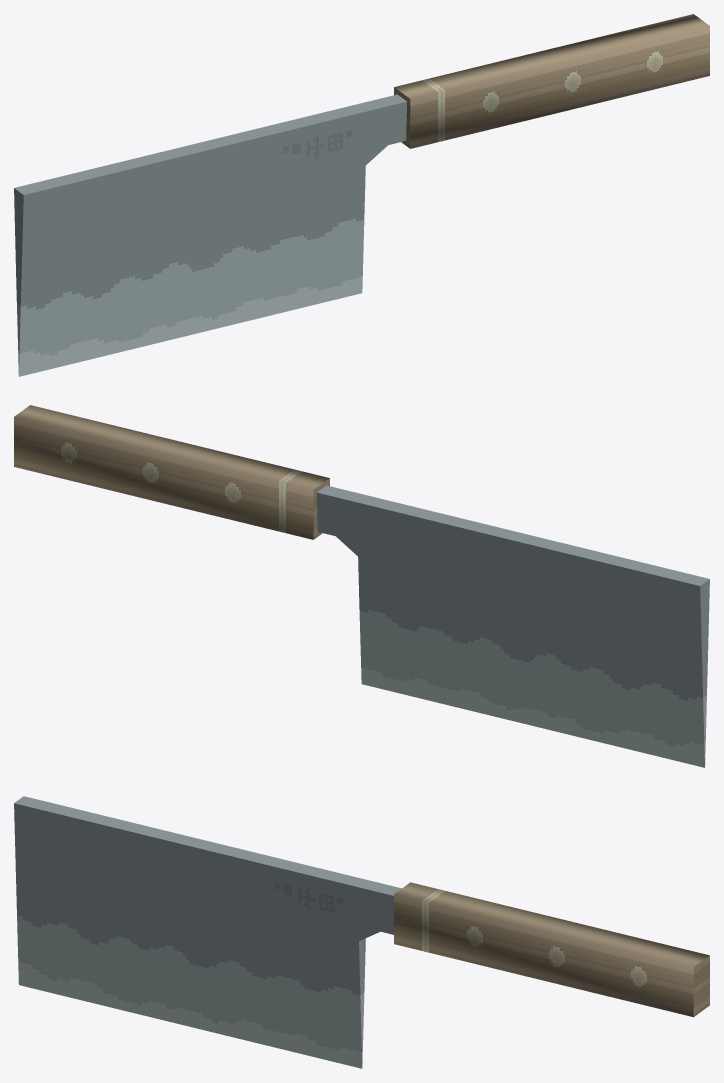
The model's file is 0361_Butcher_s_Knife.glb.
The picture shows the model from 3 angles, top to bottom: view 1: azimuth 30°, elevation 25°; view 2: azimuth 150°, elevation 25°; view 3: azimuth 330°, elevation 25°; orthographic projection.
Visible parts, largest first — view 1: part_0; view 2: part_0; view 3: part_0.
Boxes of the visible parts, box(x1,y1,x2,y2) form: part_0: box(14, 14, 709, 376); part_0: box(14, 405, 709, 767); part_0: box(14, 796, 709, 1068).
Bounding box in the file's own units: 0.6786 × 0.1807 × 0.028.
1 material, 1 textured.
